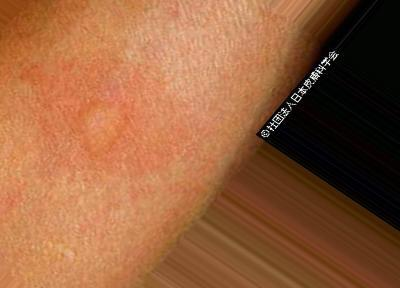Mosquito: (80, 96, 132, 156)
